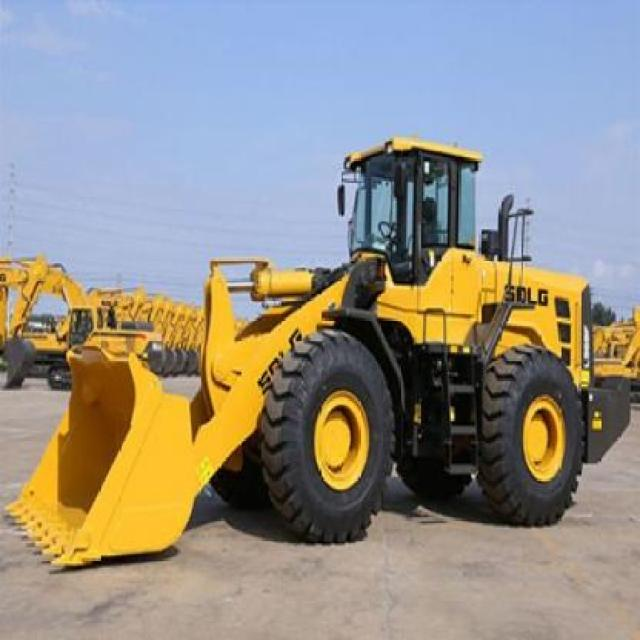buldozerpayloadergrader: (15, 137, 619, 575)
